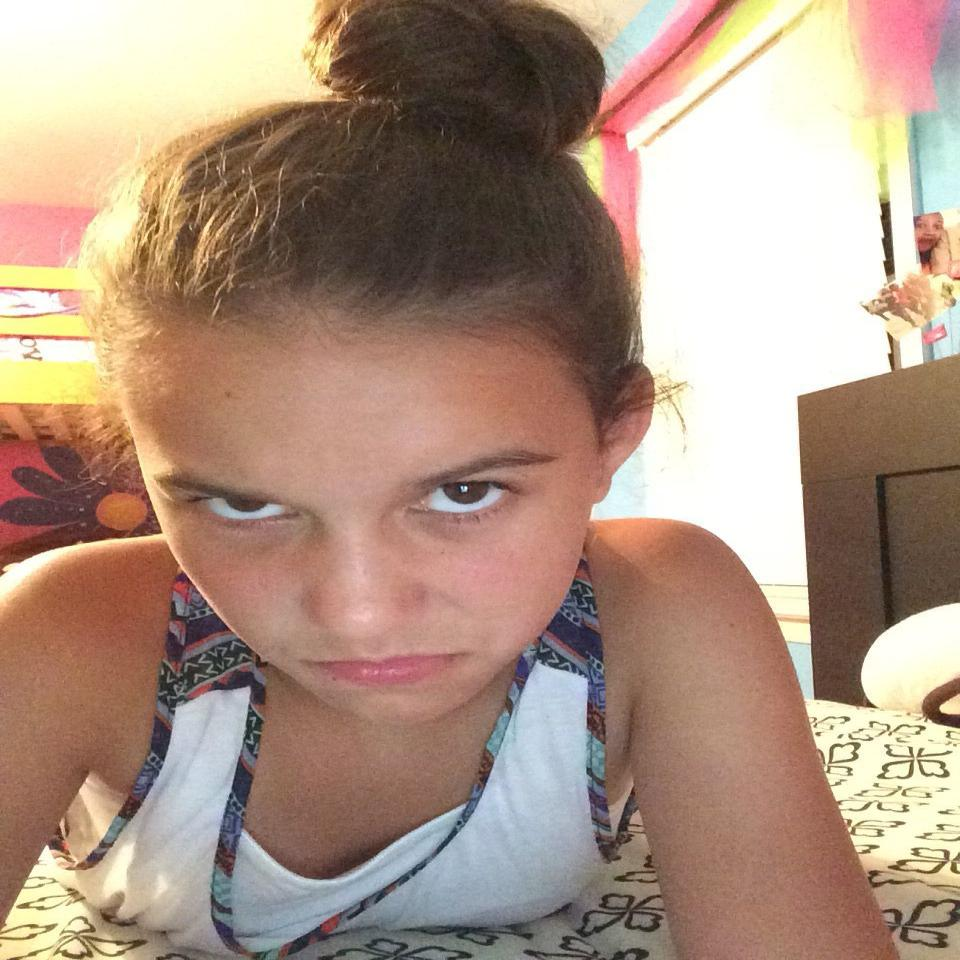Anger: (126, 306, 600, 720)
